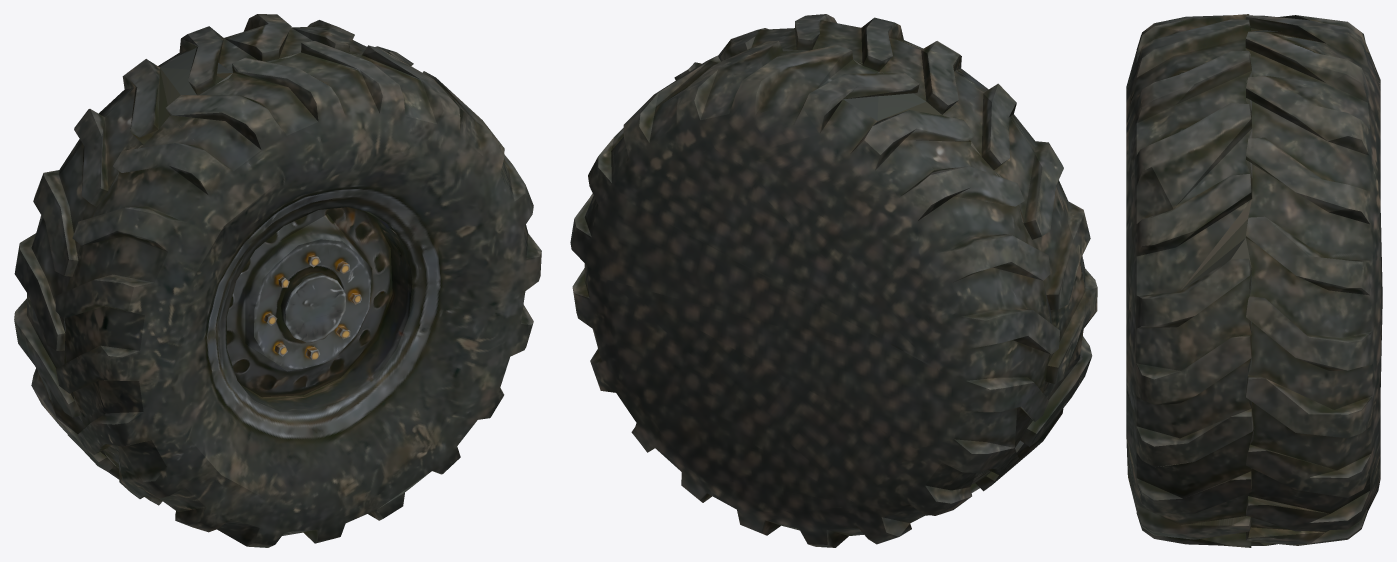
File: enemy_wheel.glb
3 views of the same model, side by side, from view 1: azimuth 30°, elevation 25°; view 2: azimuth 150°, elevation 25°; view 3: azimuth 270°, elevation 25° (orthographic). The views are drawn at different scales.
Parts seen in each view (by area): view 1: geometry_0; view 2: geometry_0; view 3: geometry_0.
Boxes of the visible parts, x1,y1,x2,y2 form: geometry_0: [14, 14, 541, 547]; geometry_0: [570, 14, 1097, 547]; geometry_0: [1126, 14, 1382, 547].
Size of the model in its own units: 0.9556 by 0.9521 by 0.4575.
Materials: 1 (1 with a texture image).
